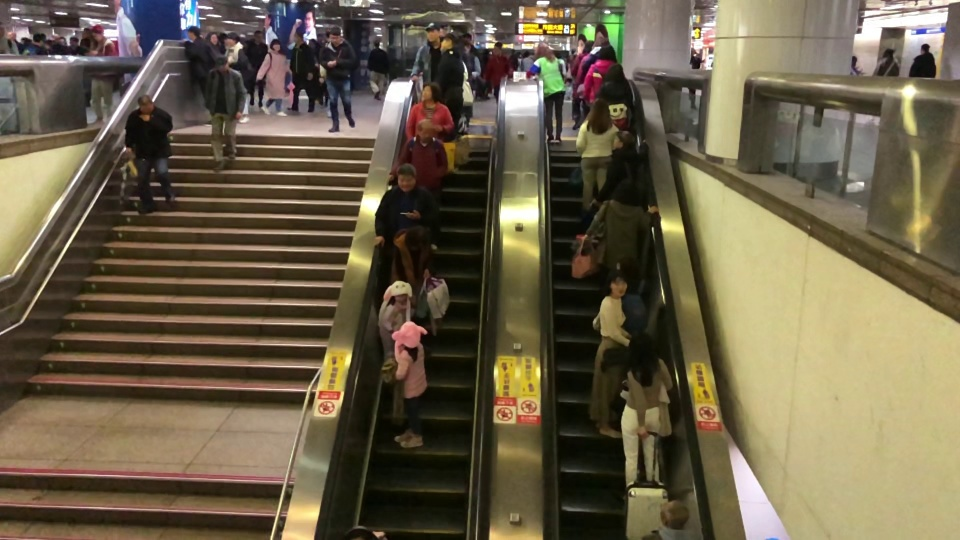person_head: (628, 331, 657, 367), (658, 499, 690, 528), (615, 178, 641, 204), (396, 162, 418, 191), (607, 269, 629, 297), (404, 227, 429, 249), (613, 130, 635, 149), (421, 81, 441, 101), (417, 118, 435, 140), (605, 63, 625, 81), (616, 256, 637, 272), (137, 94, 154, 112), (591, 99, 610, 115), (598, 45, 617, 60), (426, 26, 441, 41), (214, 55, 228, 71), (404, 332, 418, 348), (536, 40, 550, 56), (328, 26, 341, 43), (441, 35, 454, 50), (392, 289, 407, 302), (582, 39, 594, 53), (91, 27, 103, 40), (187, 26, 199, 38), (225, 34, 236, 47), (270, 38, 281, 51), (293, 30, 304, 43), (883, 48, 895, 58), (69, 36, 79, 47), (920, 42, 930, 53), (255, 29, 264, 41), (493, 41, 502, 53), (209, 31, 217, 44), (0, 21, 6, 36), (32, 32, 40, 43), (373, 38, 380, 48), (851, 56, 858, 65), (691, 48, 695, 54)
person_vbox: (618, 331, 674, 484), (388, 118, 449, 251), (587, 269, 631, 439), (584, 178, 660, 273), (123, 95, 175, 214), (372, 162, 439, 248), (202, 55, 247, 172), (574, 99, 619, 209), (319, 26, 359, 134), (589, 131, 649, 201), (392, 332, 427, 449), (528, 40, 567, 144), (606, 255, 654, 332), (379, 289, 407, 419), (180, 25, 215, 125), (379, 227, 437, 286), (85, 26, 117, 125), (404, 81, 454, 139), (255, 38, 290, 117), (224, 34, 255, 122), (286, 31, 318, 112), (569, 39, 595, 130), (599, 62, 635, 127), (583, 45, 618, 102), (410, 25, 442, 82), (247, 29, 268, 107), (69, 36, 92, 105), (436, 35, 464, 90), (366, 38, 389, 100), (484, 41, 514, 88), (907, 42, 937, 78), (582, 36, 607, 72), (873, 48, 901, 77), (688, 47, 701, 109), (23, 32, 48, 56), (0, 21, 18, 54), (850, 56, 864, 75), (594, 37, 607, 46)
